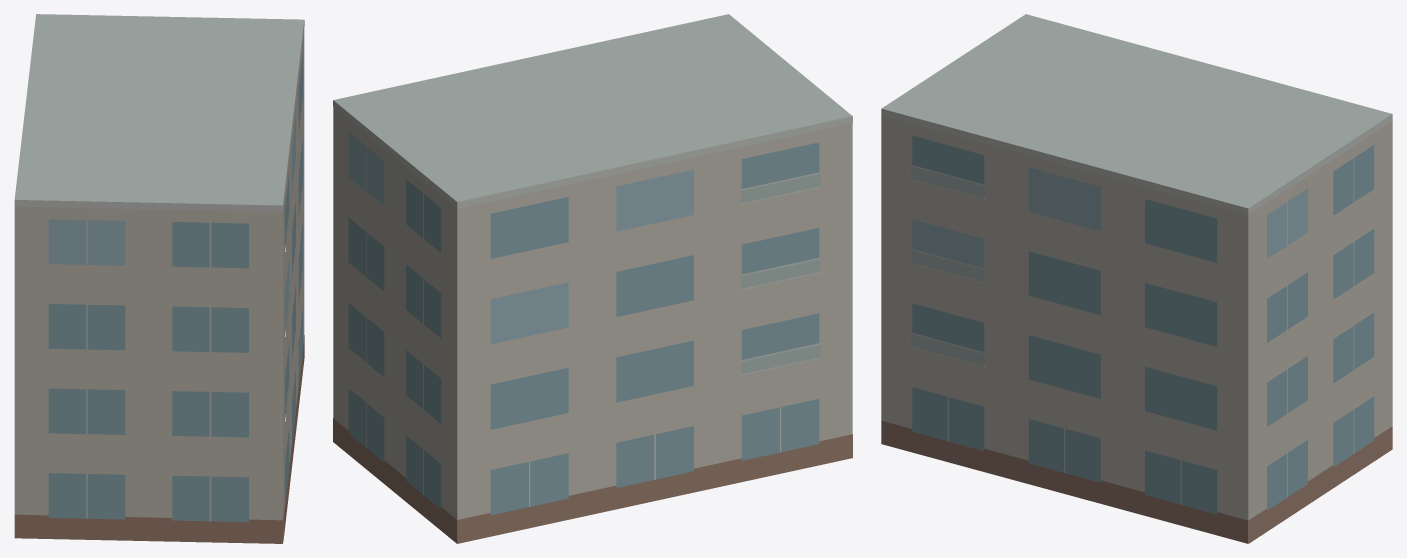
Rendered from residential-b9d93240-1f2c-475d-839e-4450329c7c4e.glb.
The picture shows the model from 3 angles, left to right: view 1: azimuth 30°, elevation 25°; view 2: azimuth 150°, elevation 25°; view 3: azimuth 270°, elevation 25°; orthographic projection.
Parts seen in each view (by area): view 1: residential-b9d93240-1f2c-475d-839e-4450329c7c4e.tmp; view 2: residential-b9d93240-1f2c-475d-839e-4450329c7c4e.tmp; view 3: residential-b9d93240-1f2c-475d-839e-4450329c7c4e.tmp.
Part boxes in pixels (x1,y1,x2,y2): residential-b9d93240-1f2c-475d-839e-4450329c7c4e.tmp: [14, 14, 304, 543]; residential-b9d93240-1f2c-475d-839e-4450329c7c4e.tmp: [333, 14, 852, 543]; residential-b9d93240-1f2c-475d-839e-4450329c7c4e.tmp: [881, 14, 1392, 543].
Bounding box in the file's own units: 15.18 × 12.2 × 16.86.
